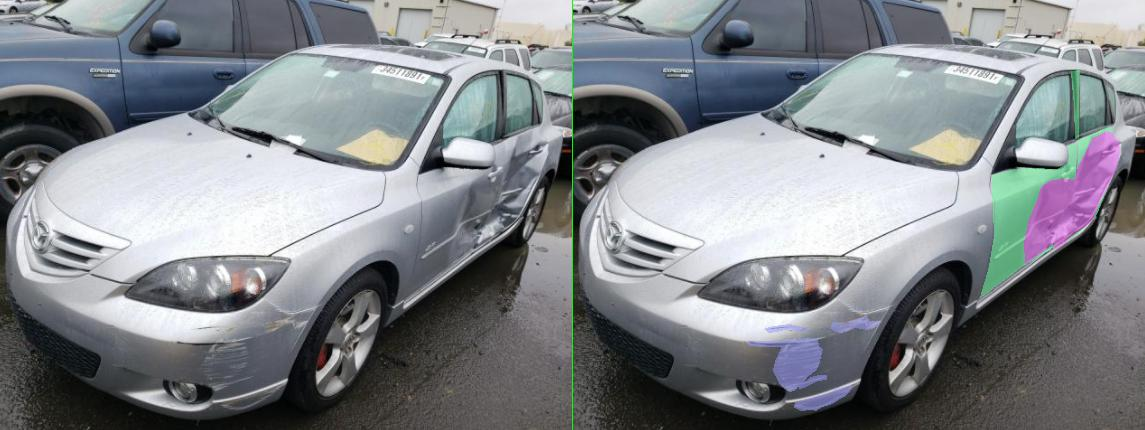Broken part: (815, 143, 1007, 297), (961, 126, 1093, 248), (997, 70, 1013, 138)
Dent: (961, 131, 1093, 248), (903, 179, 1001, 263)
Scratch: (400, 338, 498, 391), (442, 385, 556, 410), (514, 316, 615, 332), (384, 324, 472, 332), (452, 375, 506, 388), (348, 340, 440, 346)
